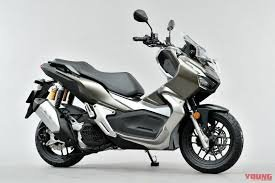motor: (21, 36, 246, 176)
